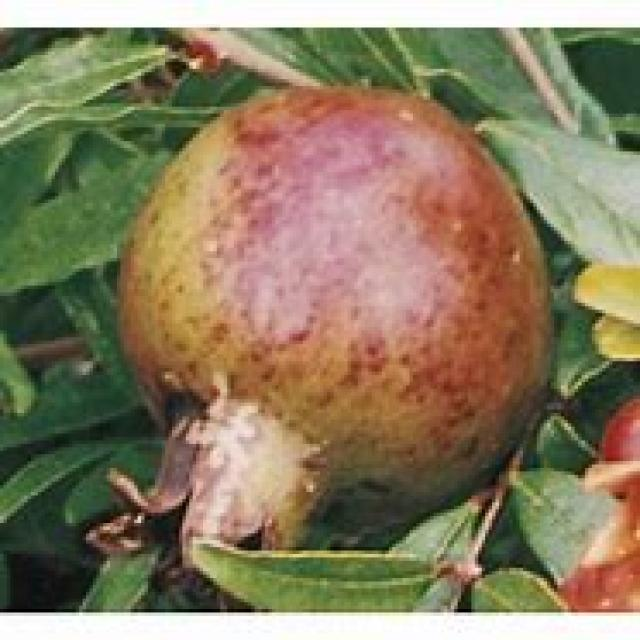Pomegranate: (85, 82, 558, 603)
